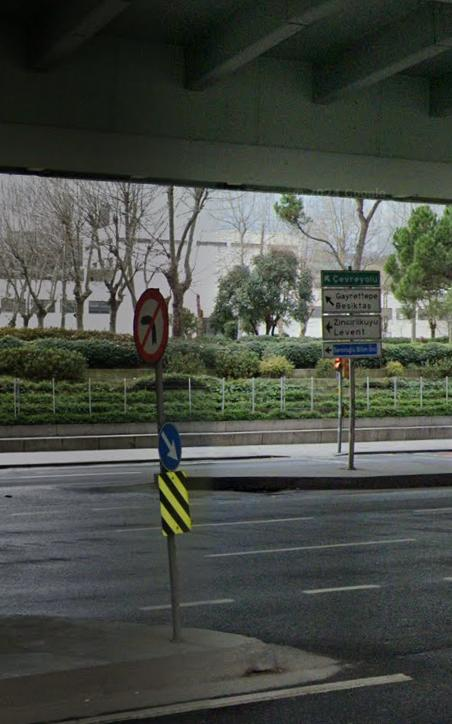leftturnsareforbidden: (134, 289, 173, 357)
